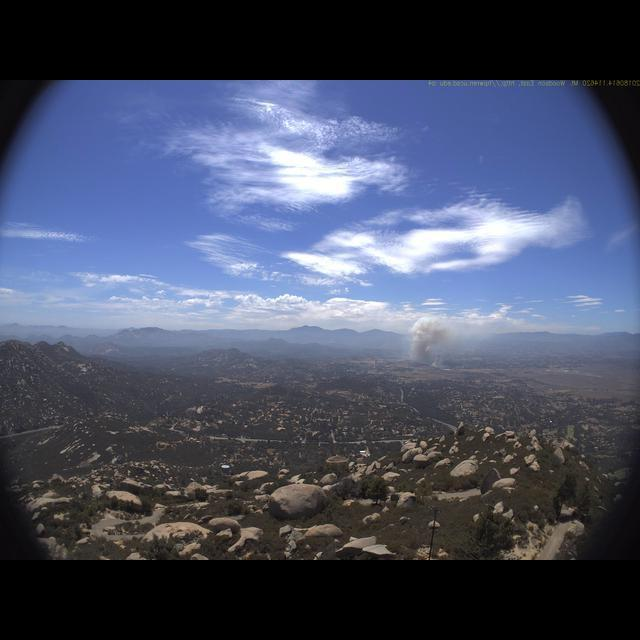Smoke: (401, 313, 467, 371)
